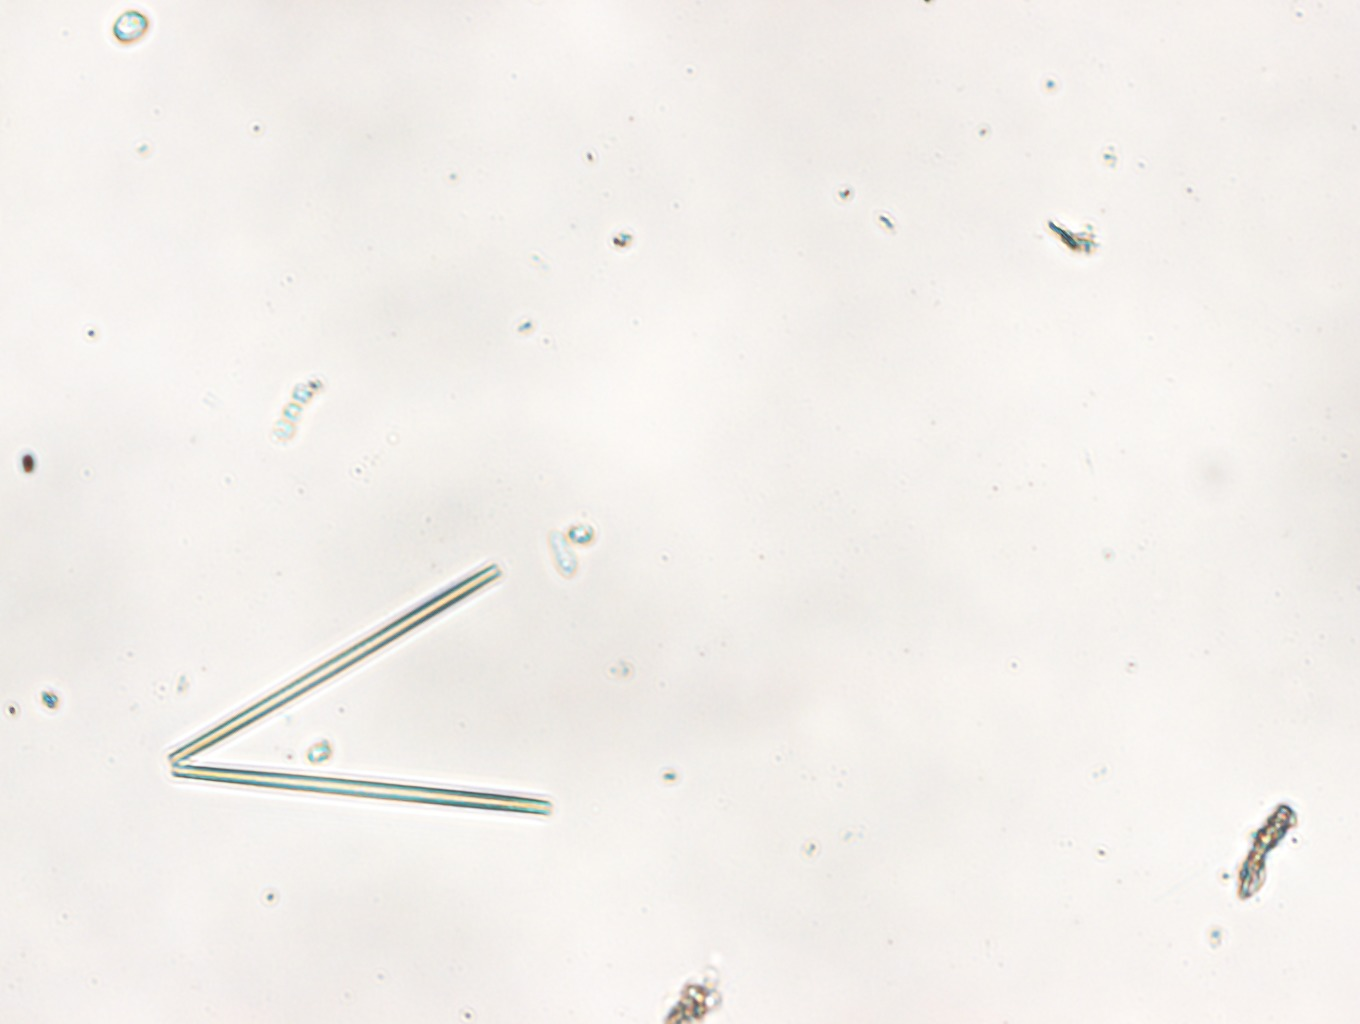thalassionema frauenfeldii: (166, 563, 553, 816)
